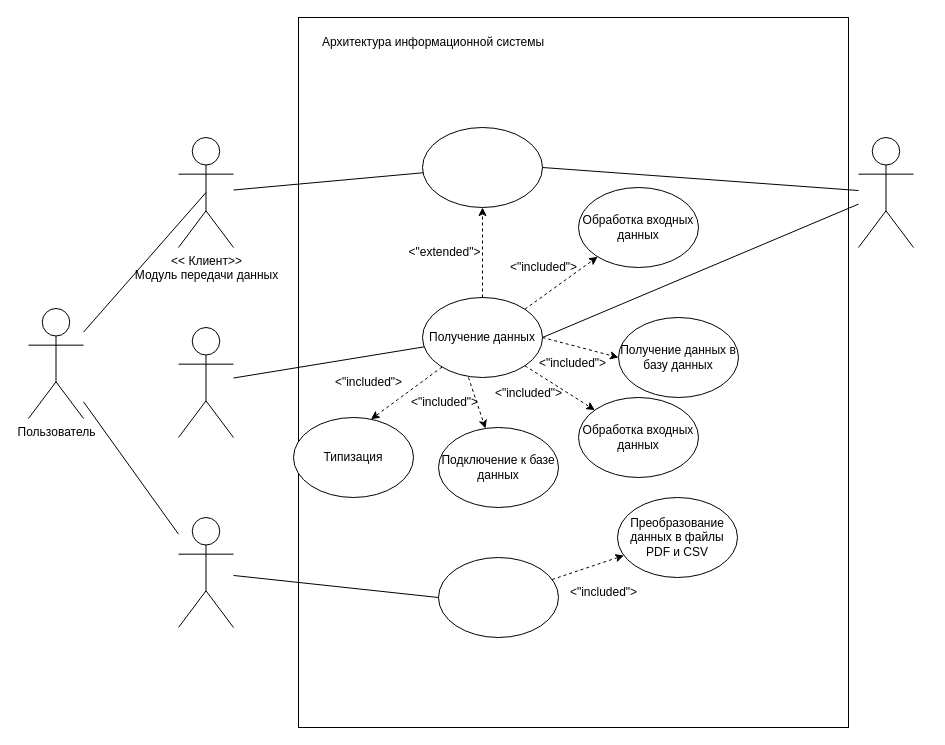
The diagram is 945 pixels wide and 745 high, and some of its shapes have lost their labels. The centre of each missing label's shape, as x and y in pixels:
<< Cистема >> Модуль получения данных: point 206,382
<< Клиент >> Графический модуль: point 206,572
<< Система >> База данных: point 886,192
Вывод пользовательского интерфейса: point 498,597
Передача данных: point 482,167
